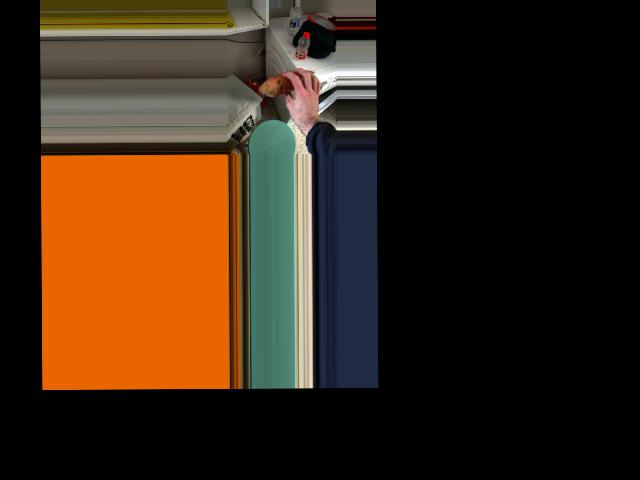sweet_potato: (260, 69, 317, 95)
